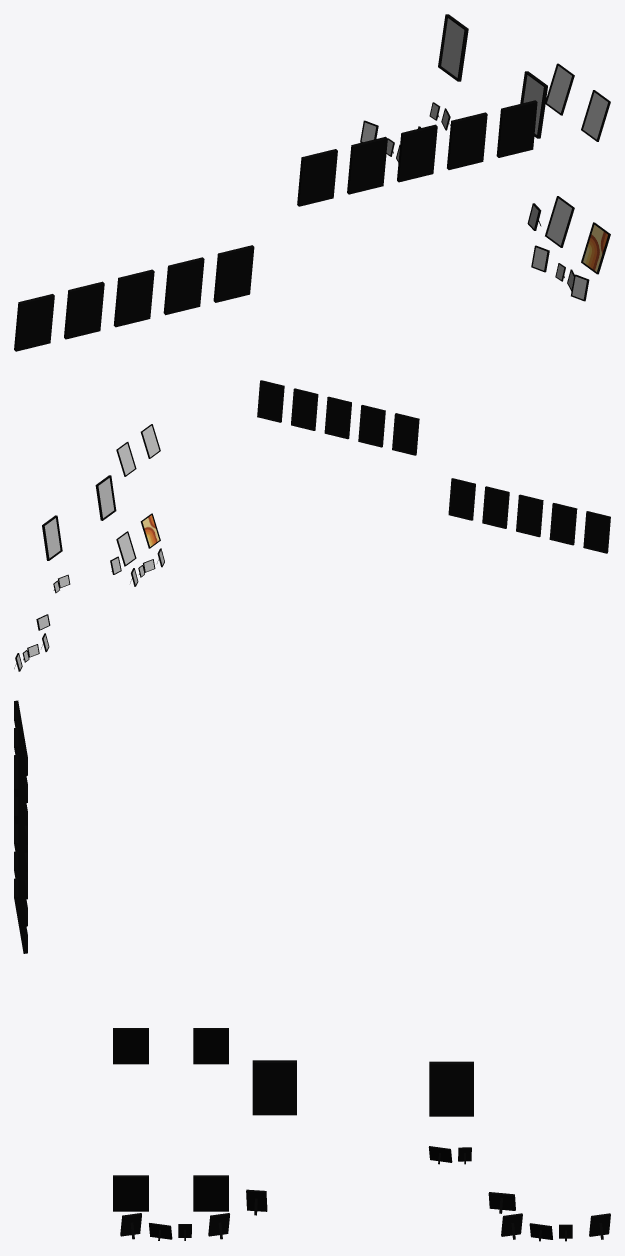
The model's file is Parents Pictures.fbx.
The picture shows the model from 3 angles, top to bottom: view 1: azimuth 30°, elevation 25°; view 2: azimuth 150°, elevation 25°; view 3: azimuth 270°, elevation 25°; orthographic projection. The views are drawn at different scales.
Visible parts, largest first — view 1: Cube.531, Cube.529, Cube.530, Cube.532, Cube.534, Cube.536, Cube.544, Cube.533, Cube.535, Cube.545, Parents Frame18, Parents Frame 15 (+4 smaller); view 2: Cube.536, Cube.544, Cube.529, Cube.530, Cube.532, Cube.533, Cube.545, Cube.531, Cube.535, Cube.534, Parents Frame 15, Parents Frame18 (+4 smaller); view 3: Parents Frame18, Parents Frame 15, Parents Frame 13, Parents Frame 16, Parents Frame 17, Parents Frame14.
Boxes of the visible parts, bbox=[...] form: Cube.531: bbox=[163, 257, 204, 315]; Cube.529: bbox=[64, 281, 104, 339]; Cube.530: bbox=[113, 269, 154, 327]; Cube.532: bbox=[213, 245, 254, 302]; Cube.534: bbox=[397, 124, 437, 182]; Cube.536: bbox=[496, 100, 537, 157]; Cube.544: bbox=[14, 294, 54, 351]; Cube.533: bbox=[347, 136, 387, 194]; Cube.535: bbox=[447, 112, 487, 169]; Cube.545: bbox=[297, 149, 337, 206]; Parents Frame18: bbox=[438, 14, 468, 81]; Parents Frame 15: bbox=[520, 71, 547, 138]; Cube.536: bbox=[257, 380, 284, 422]; Cube.544: bbox=[583, 511, 610, 553]; Cube.529: bbox=[549, 503, 577, 545]; Cube.530: bbox=[516, 494, 543, 537]; Cube.532: bbox=[448, 478, 475, 520]; Cube.533: bbox=[358, 405, 385, 447]; Cube.545: bbox=[392, 413, 419, 455]; Cube.531: bbox=[482, 486, 509, 528]; Cube.535: bbox=[291, 388, 318, 430]; Cube.534: bbox=[324, 396, 351, 439]; Parents Frame 15: bbox=[95, 475, 116, 520]; Parents Frame18: bbox=[42, 515, 62, 560]; Parents Frame18: bbox=[429, 1061, 473, 1116]; Parents Frame 15: bbox=[252, 1060, 296, 1115]; Parents Frame 13: bbox=[113, 1175, 148, 1211]; Parents Frame 16: bbox=[113, 1028, 148, 1064]; Parents Frame 17: bbox=[193, 1028, 228, 1064]; Parents Frame14: bbox=[193, 1175, 228, 1211].
Bounding box in the file's own units: 580 × 226 × 425.
